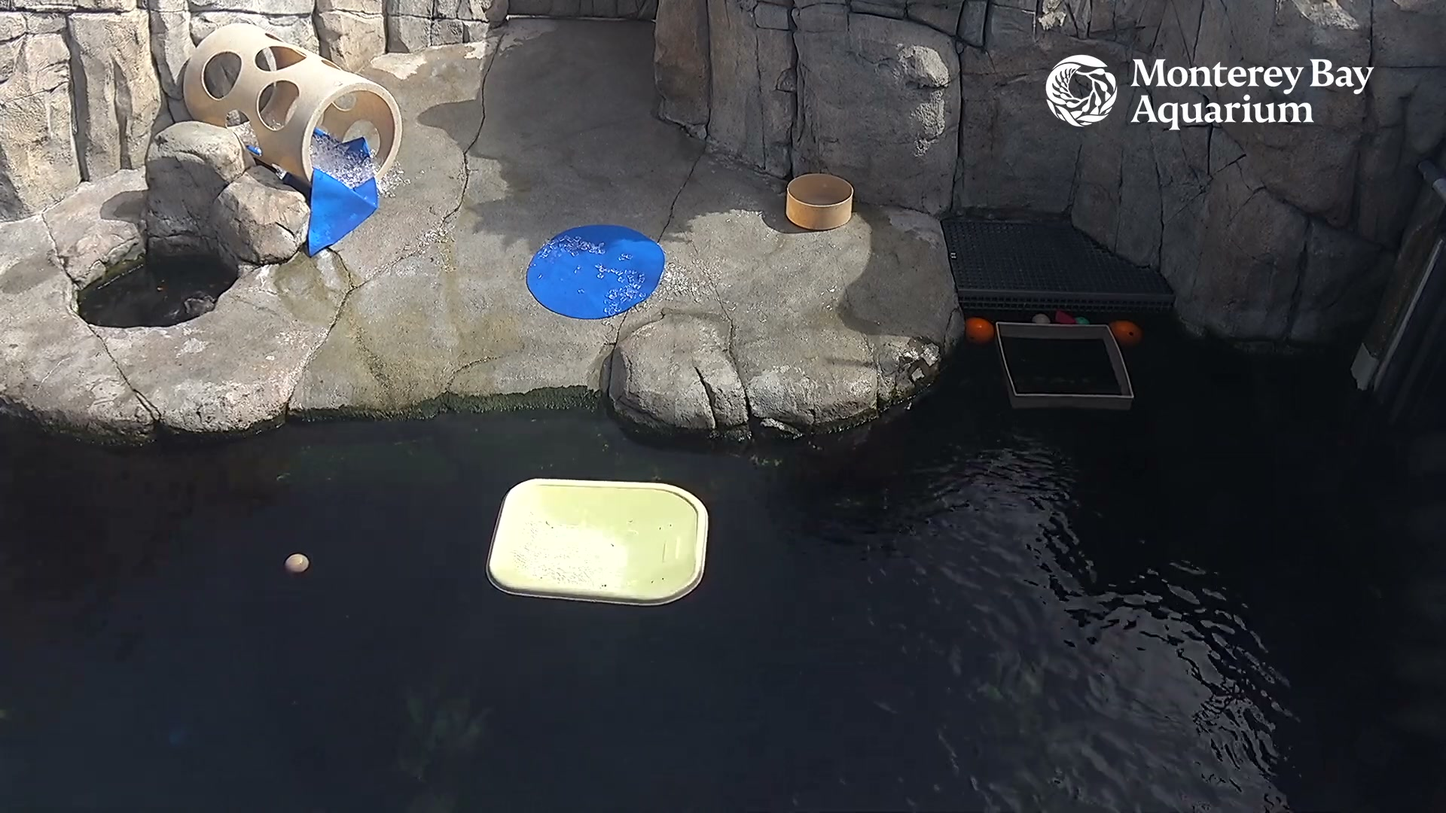Southern Sea Otter: (157, 281, 223, 322)
